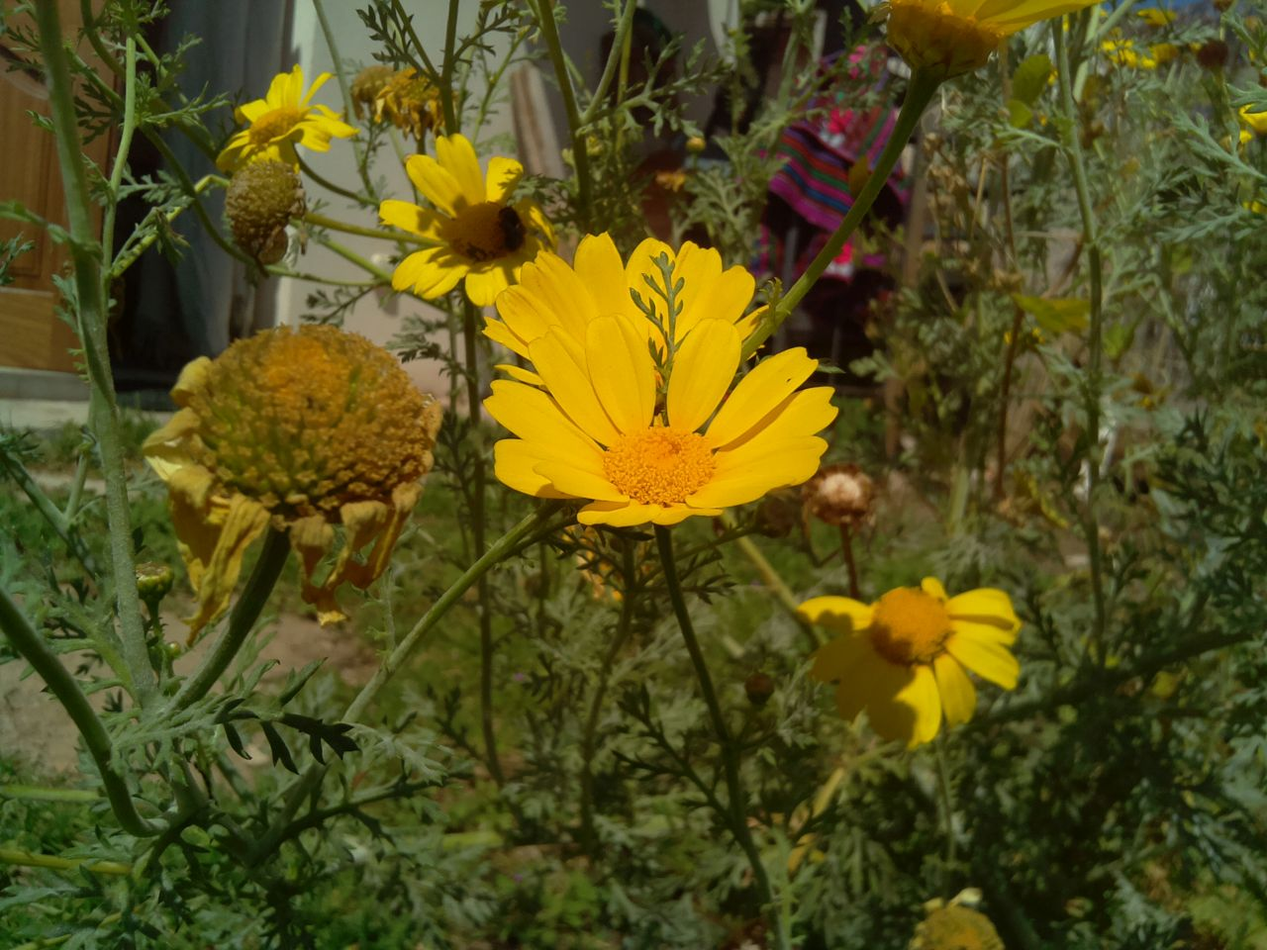bee: (491, 195, 544, 270)
